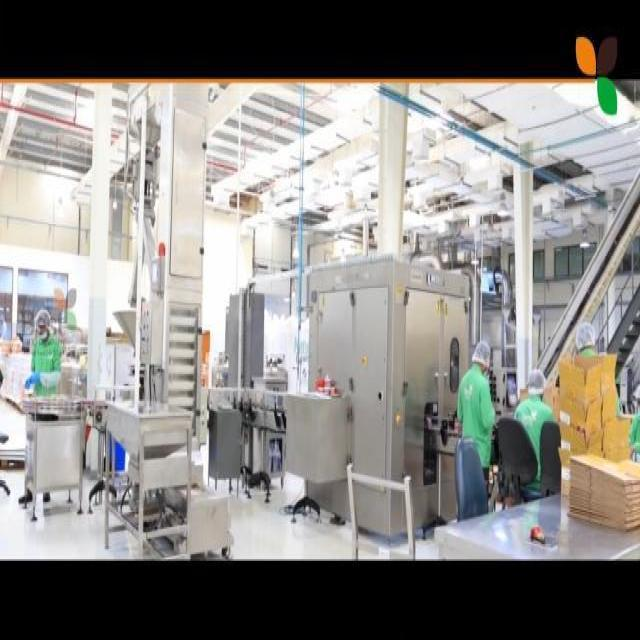gloved_hand: (23, 372, 45, 401)
